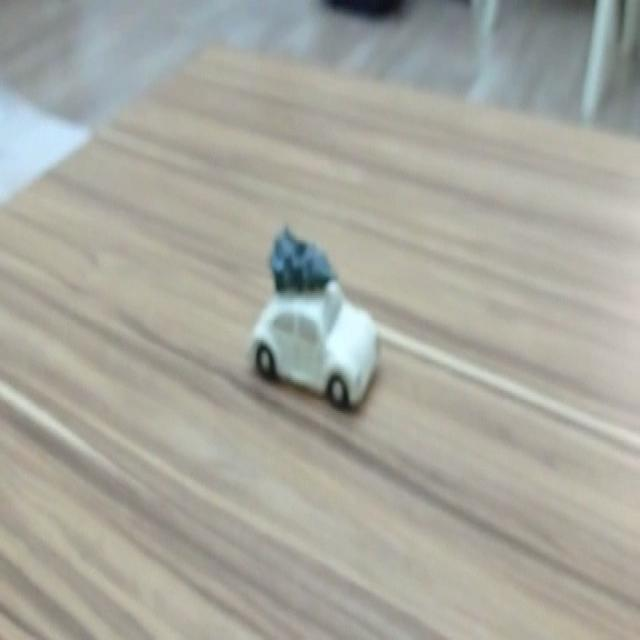car: (253, 288, 381, 394)
